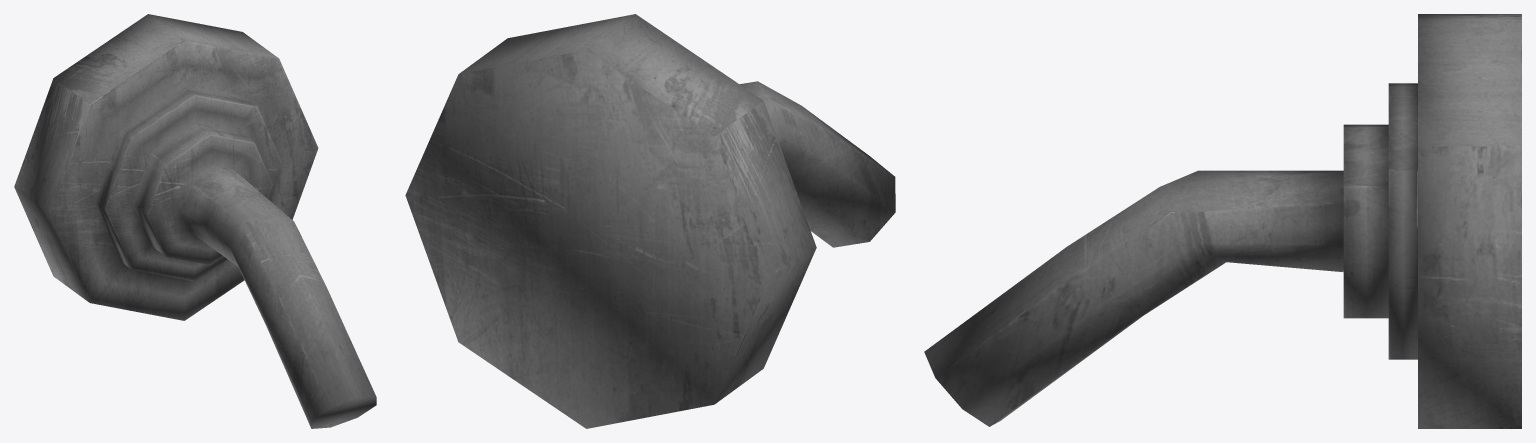
File: camera_uchwyt.gltf
3 renders of one model, left to right at view 1: azimuth 30°, elevation 25°; view 2: azimuth 150°, elevation 25°; view 3: azimuth 270°, elevation 25°, orthographic. The views are drawn at different scales.
Visible parts, largest first — view 1: Plane.003; view 2: Plane.003; view 3: Plane.003.
Part boxes in pixels (left/top/right/bottom): Plane.003: left=14, top=14, right=376, bottom=428; Plane.003: left=405, top=14, right=895, bottom=428; Plane.003: left=924, top=14, right=1521, bottom=428.
Size of the model in its own units: 3.16 by 3.16 by 4.27.
1 material, 1 textured.
